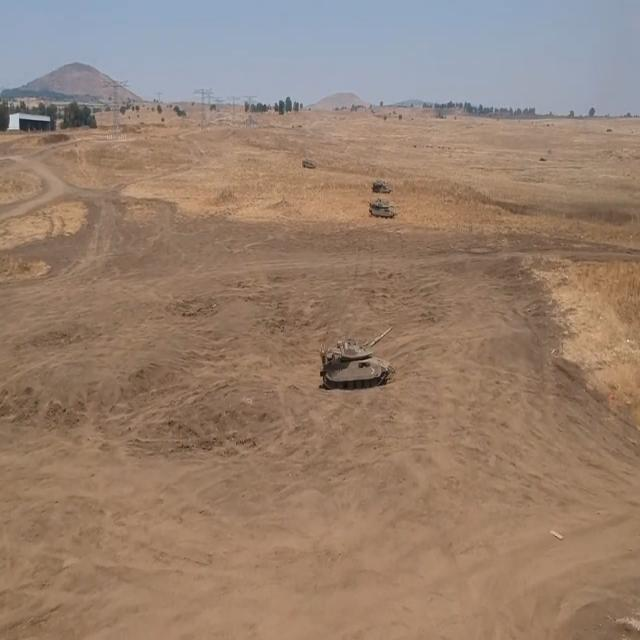tank: (315, 326, 400, 391), (367, 198, 401, 223), (368, 177, 393, 196), (299, 155, 320, 171)
